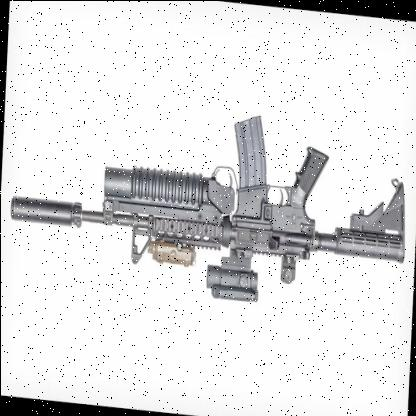rifle: (5, 94, 413, 320)
